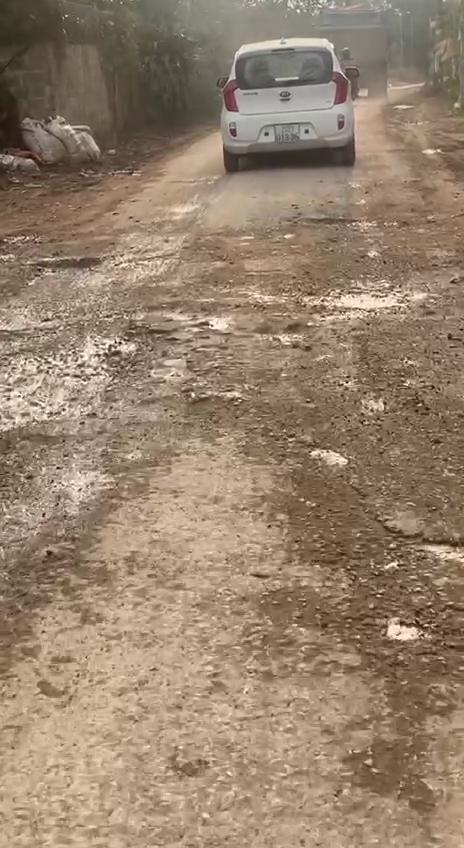pothole: (0, 310, 196, 460), (288, 280, 440, 326)
